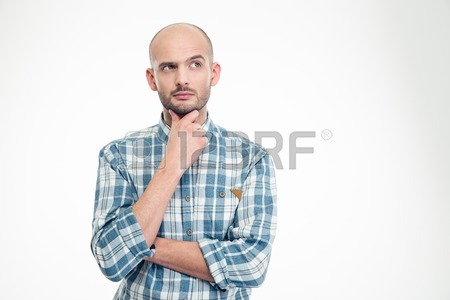confused: (145, 35, 221, 119)
